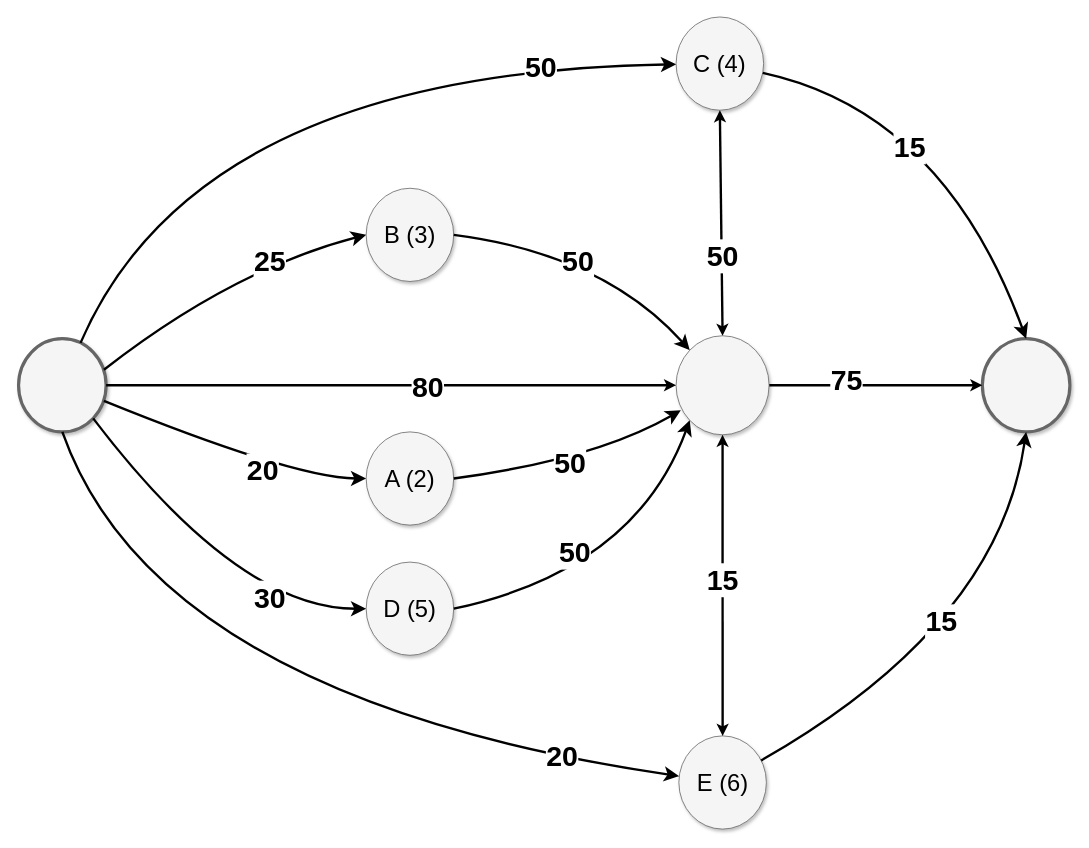
The diagram is 1089 pixels wide and 848 high, and some of its shapes have lost their labels. Each missing label, with the centre of its shape:
"F (7)" goes at [723,386].
"s (1)" goes at [62,386].
"t (8)" goes at [1026,386].
